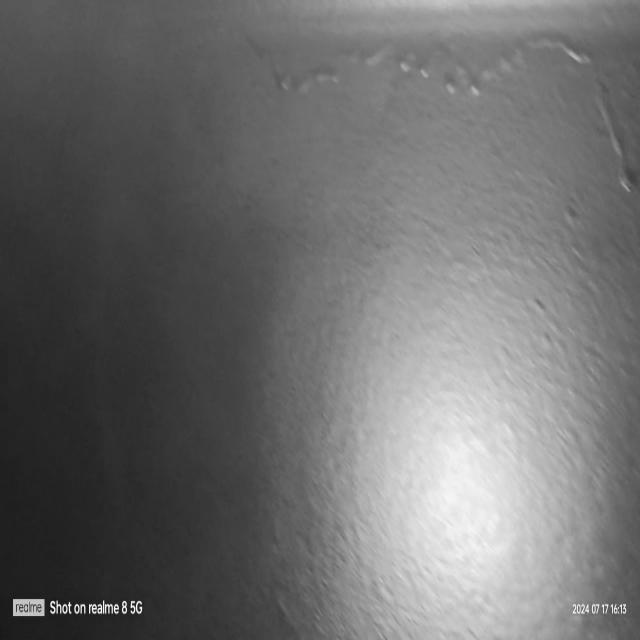paint drips: (238, 15, 640, 202)
